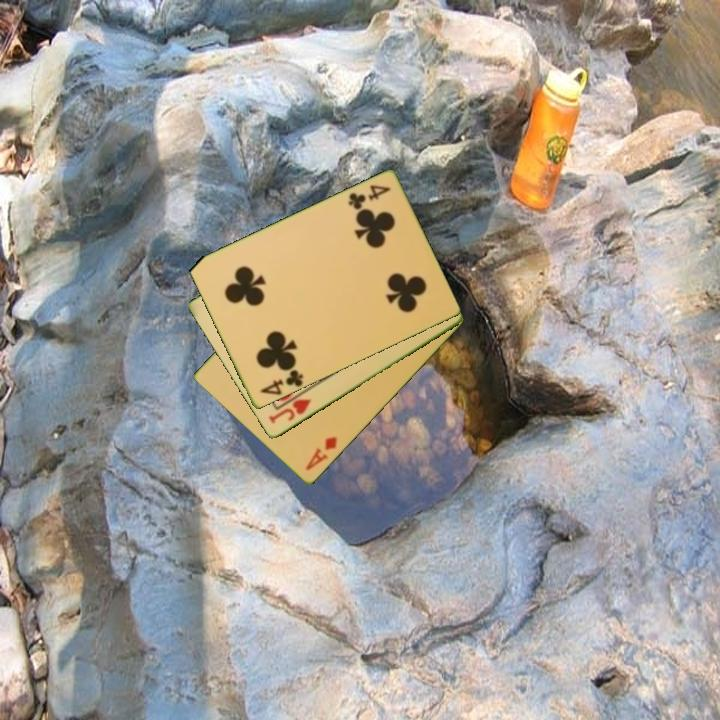4c: (256, 366, 306, 398), (345, 182, 393, 213)
Ad: (302, 433, 340, 474)
Jh: (265, 396, 314, 427)
